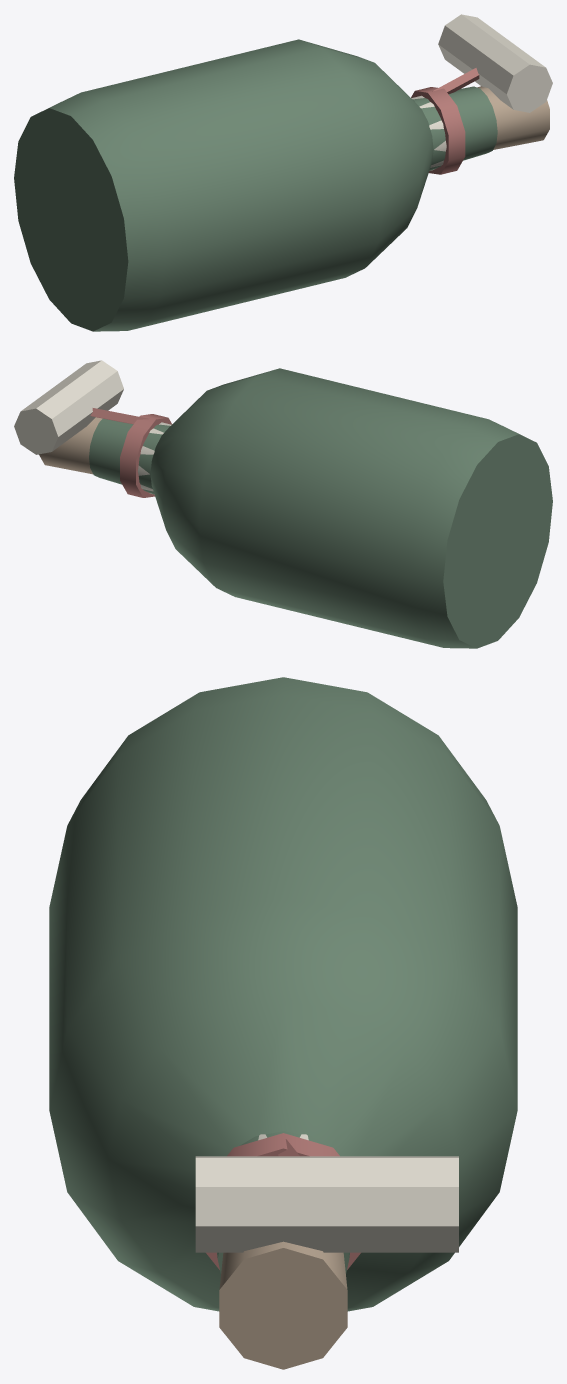
The model's file is flotsam_bottle.gltf.
3 renders of one model, top to bottom at view 1: azimuth 30°, elevation 25°; view 2: azimuth 150°, elevation 25°; view 3: azimuth 270°, elevation 25°, orthographic. The views are drawn at different scales.
Visible parts, largest first — view 1: Body; view 2: Body; view 3: Body.
Boxes of the visible parts, bbox=[...] form: Body: bbox=[14, 14, 552, 331]; Body: bbox=[14, 360, 552, 648]; Body: bbox=[49, 677, 517, 1369].
Bounding box in the file's own units: 0.7 × 0.32 × 0.32.
